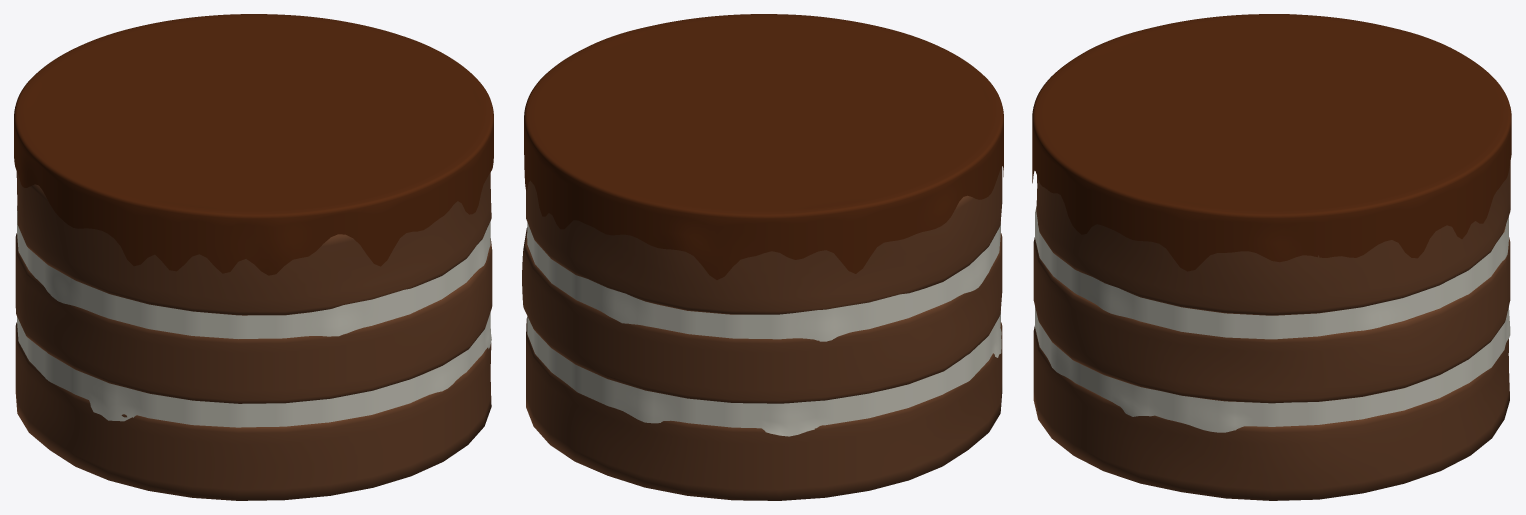
Rendered from chocolate-cake.glb.
3 renders of one model, left to right at view 1: azimuth 30°, elevation 25°; view 2: azimuth 150°, elevation 25°; view 3: azimuth 270°, elevation 25°, orthographic.
Parts seen in each view (by area): view 1: chocolate_frosting, chocolate_cake, cream_filling; view 2: chocolate_frosting, chocolate_cake, cream_filling; view 3: chocolate_frosting, chocolate_cake, cream_filling.
Boxes of the visible parts, x1,y1,x2,y2 form: chocolate_frosting: [14, 14, 493, 275]; chocolate_cake: [15, 171, 492, 500]; cream_filling: [17, 206, 491, 427]; chocolate_frosting: [524, 14, 1003, 279]; chocolate_cake: [522, 166, 1002, 500]; cream_filling: [527, 221, 1001, 436]; chocolate_frosting: [1032, 14, 1511, 271]; chocolate_cake: [1033, 162, 1510, 500]; cream_filling: [1035, 208, 1510, 432].
Size of the model in its own units: 0.1946 by 0.1296 by 0.1934.
